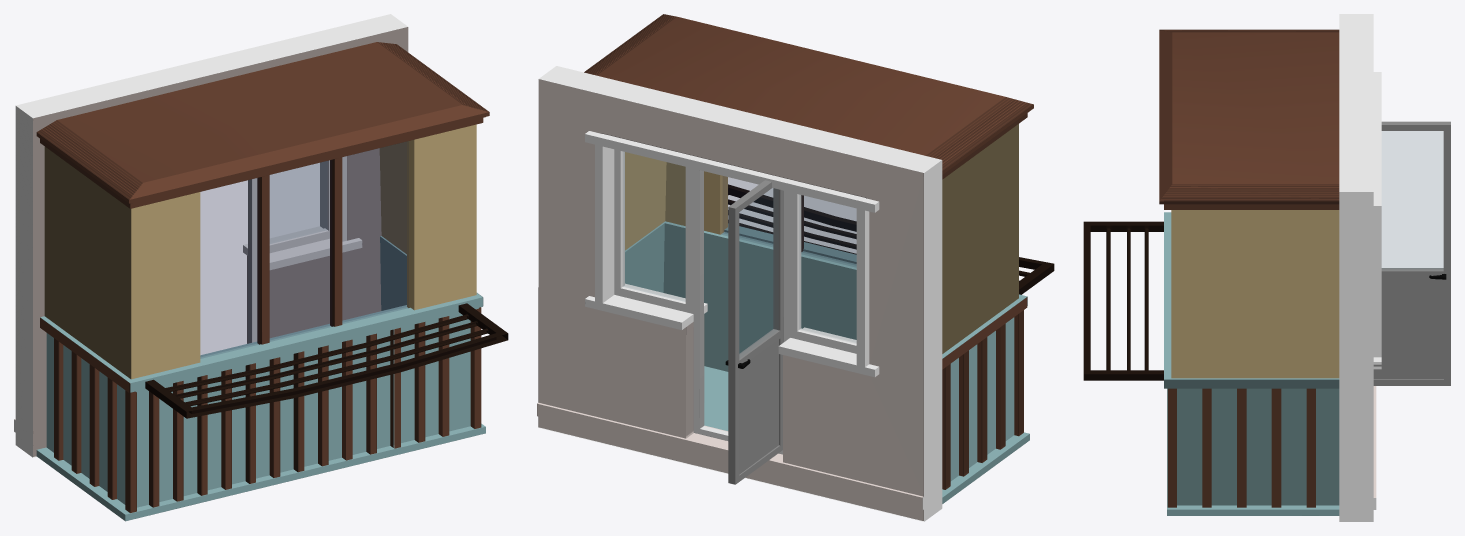
File: Hub_3_balcony_TYPE3.FBX
3 renders of one model, left to right at view 1: azimuth 30°, elevation 25°; view 2: azimuth 150°, elevation 25°; view 3: azimuth 270°, elevation 25°, orthographic. The views are drawn at different scales.
Parts seen in each view (by area): view 1: Hub_3_balcony_TYPE3_002, WIND_004; view 2: Hub_3_balcony_TYPE3_002, WIND_004, Balcony_door_022; view 3: Hub_3_balcony_TYPE3_002, Balcony_door_022.
Boxes of the visible parts, box(x1,y1,x2,y2) form: Hub_3_balcony_TYPE3_002: box(14, 14, 508, 521); WIND_004: box(200, 142, 406, 357); Hub_3_balcony_TYPE3_002: box(537, 14, 1054, 521); WIND_004: box(623, 152, 856, 342); Balcony_door_022: box(725, 180, 783, 484); Hub_3_balcony_TYPE3_002: box(1083, 14, 1381, 521); Balcony_door_022: box(1373, 121, 1450, 385).
Bounding box in the file's own units: 813 × 703 × 710.
Materials: 5 (1 with a texture image).
